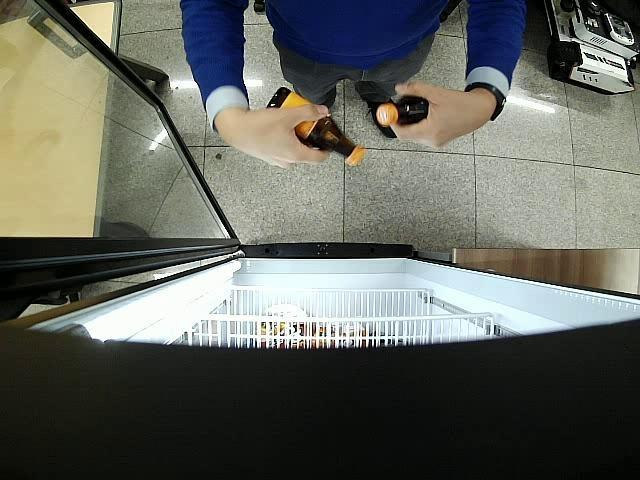17_vita500: (266, 88, 365, 166), (376, 96, 430, 126)
